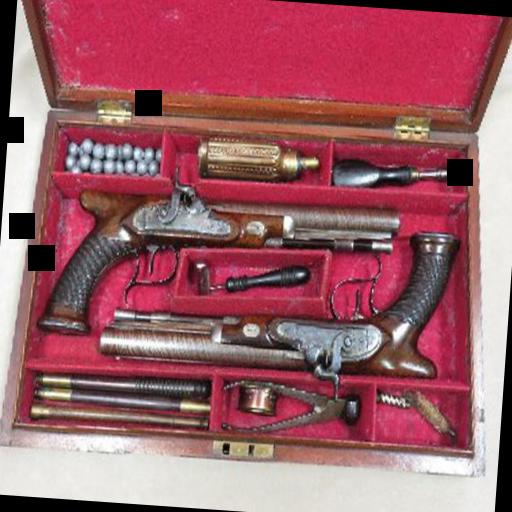Handgun: (34, 157, 402, 357), (94, 207, 462, 385)
